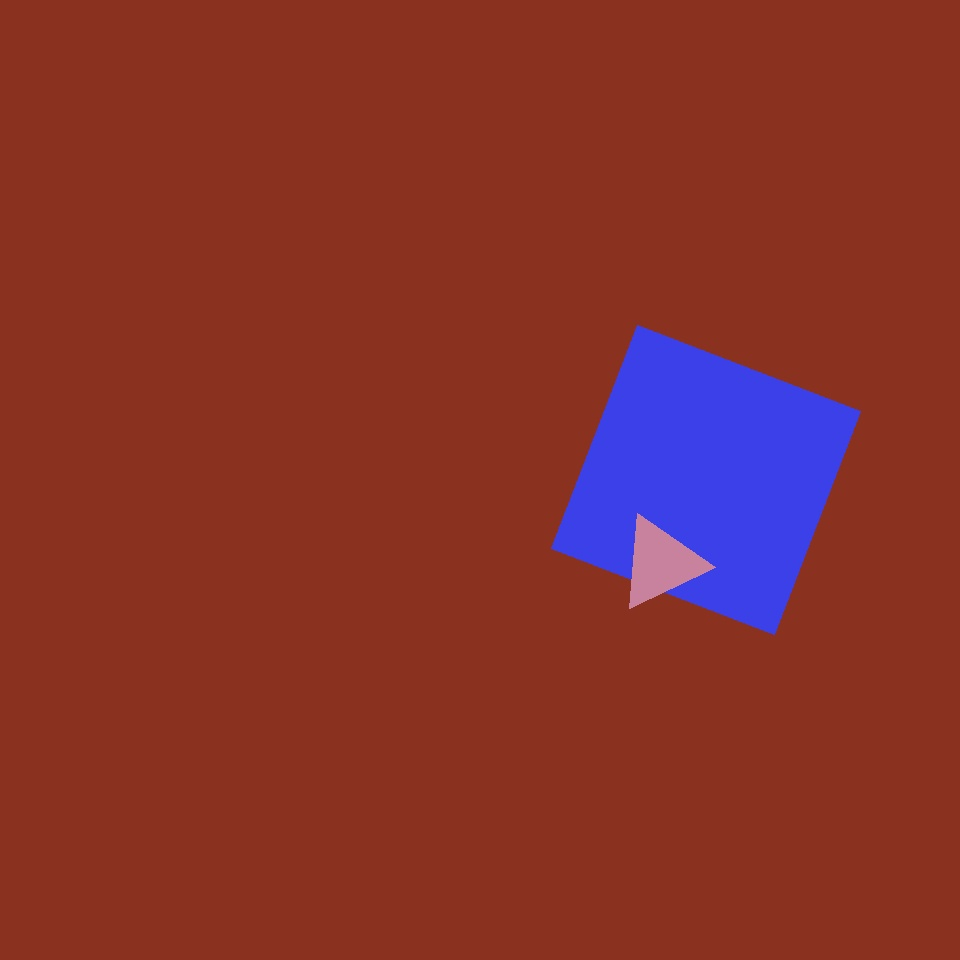circle: (618, 516, 704, 610)
square: (552, 326, 861, 634)
